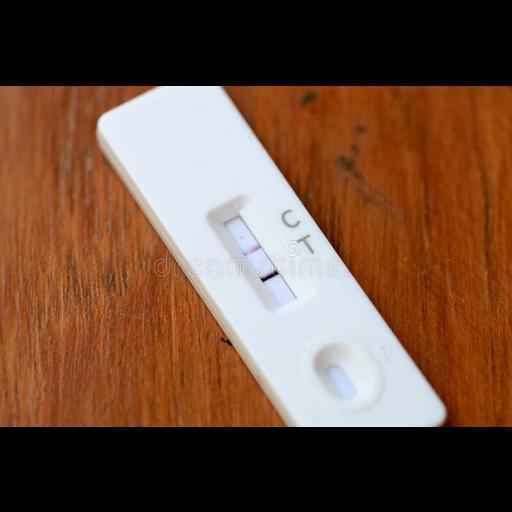Pos: (104, 85, 423, 426)
